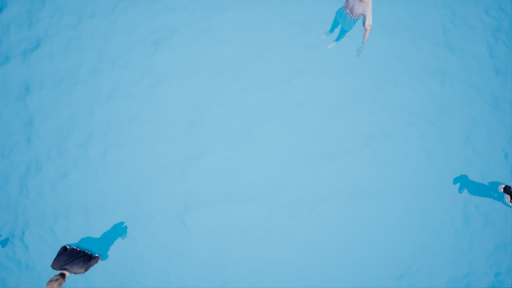person: (37, 217, 129, 288), (319, 1, 389, 59), (446, 159, 512, 215)
